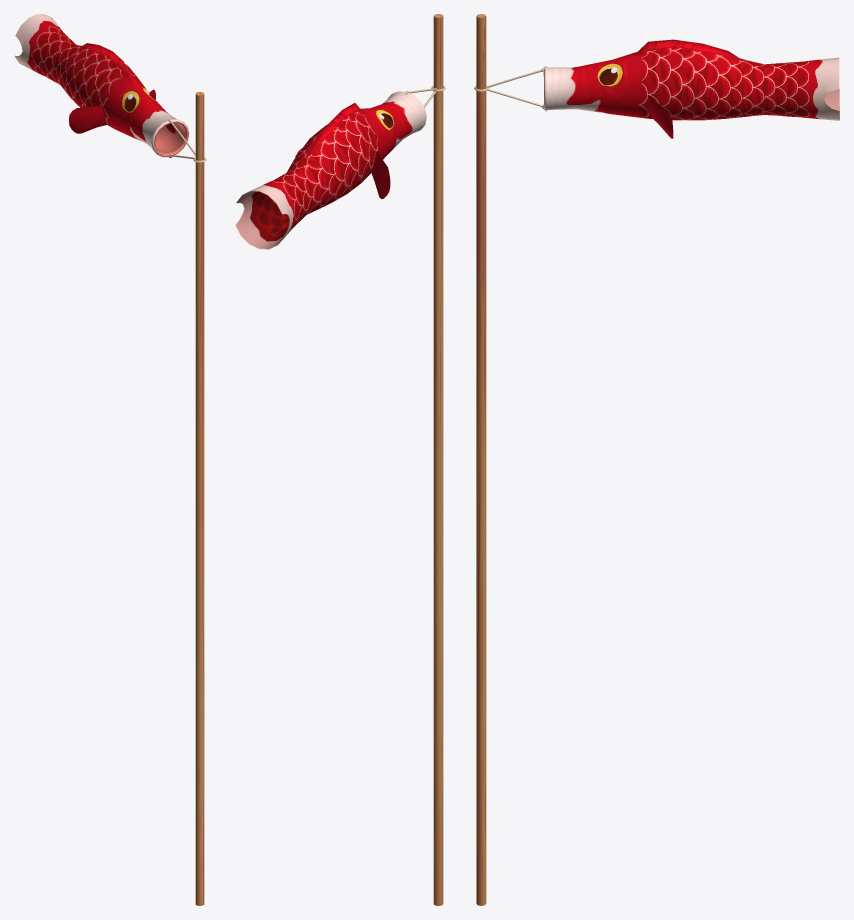
File: FishKite.fbx
3 views of the same model, side by side, from view 1: azimuth 30°, elevation 25°; view 2: azimuth 150°, elevation 25°; view 3: azimuth 270°, elevation 25° (orthographic). The views are drawn at different scales.
Visible parts, largest first — view 1: FishKite, FishKite_pole; view 2: FishKite, FishKite_pole; view 3: FishKite, FishKite_pole.
Boxes of the visible parts, x1=… form: FishKite: x1=15, y1=14, x2=206, y2=162; FishKite_pole: x1=195, y1=92, x2=204, y2=905; FishKite: x1=235, y1=85, x2=445, y2=249; FishKite_pole: x1=433, y1=14, x2=443, y2=905; FishKite: x1=474, y1=39, x2=839, y2=138; FishKite_pole: x1=476, y1=14, x2=486, y2=905.
Size of the model in its own units: 0.8881 by 2.95 by 7.89.
1 material, 1 textured.
